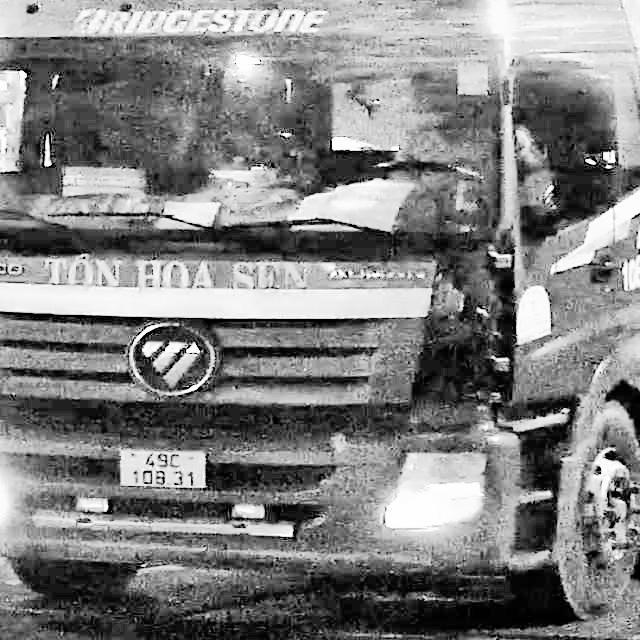Truck: (0, 0, 639, 624)
